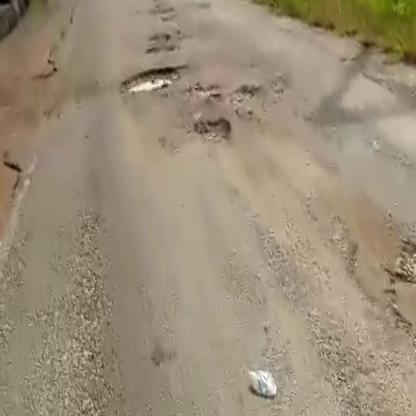pothole: (375, 217, 416, 400), (116, 60, 180, 98), (184, 108, 233, 145)
